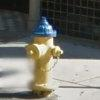Hydrant: (18, 10, 63, 100)
